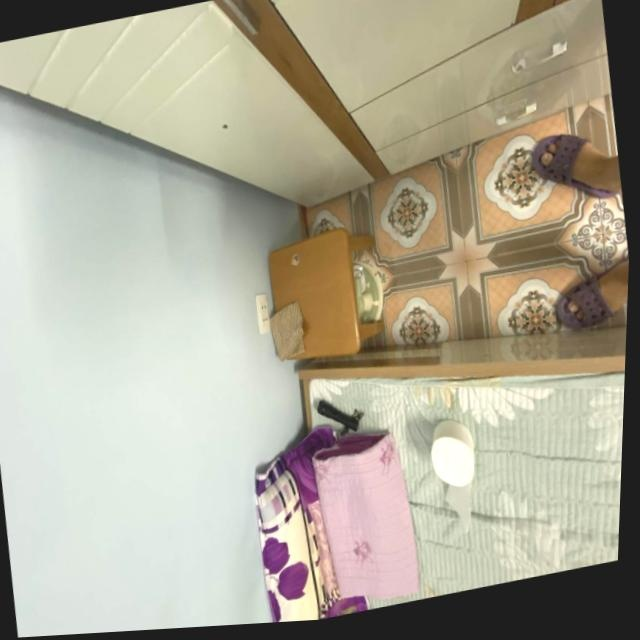outlet: (254, 292, 273, 335)
